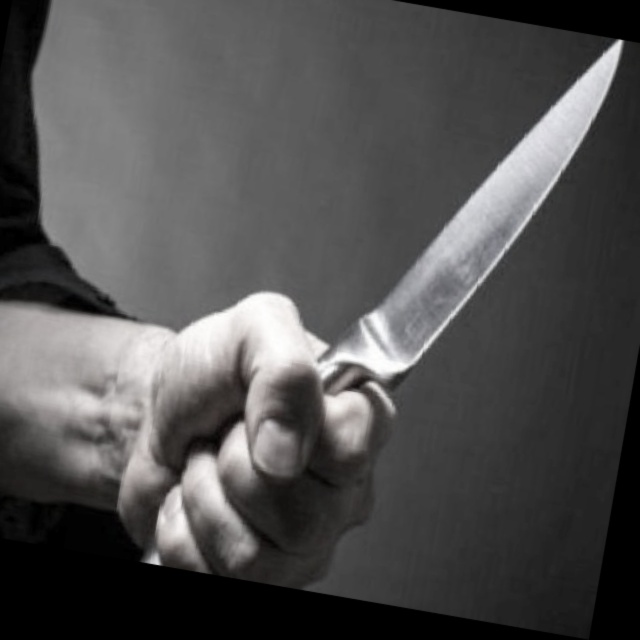Sharp-Object: (308, 0, 624, 433)
